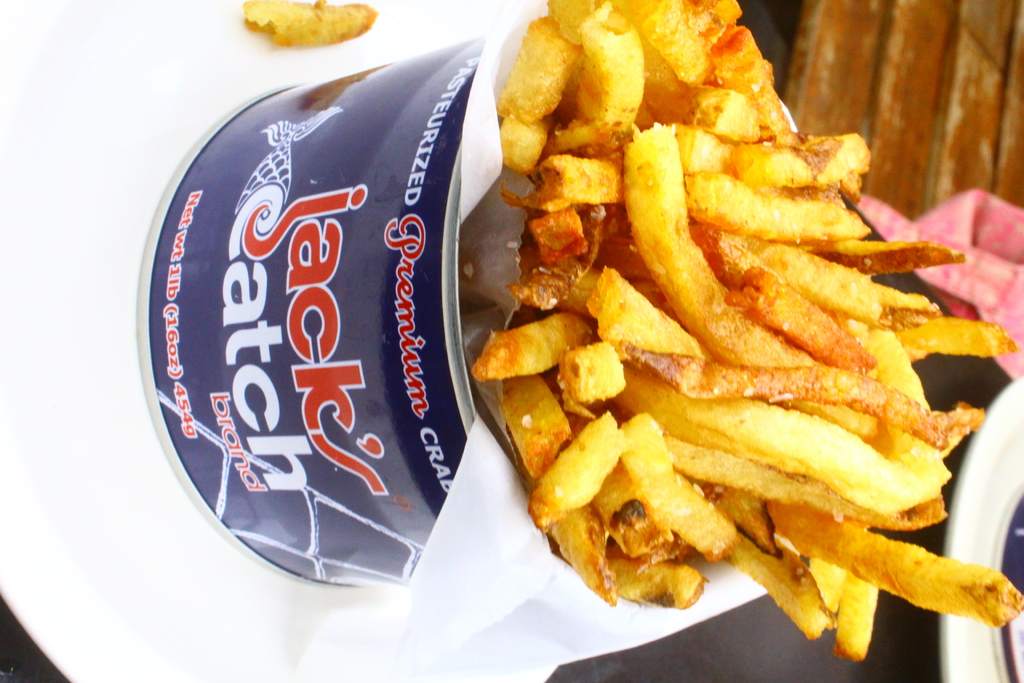French fries: (474, 79, 999, 648)
